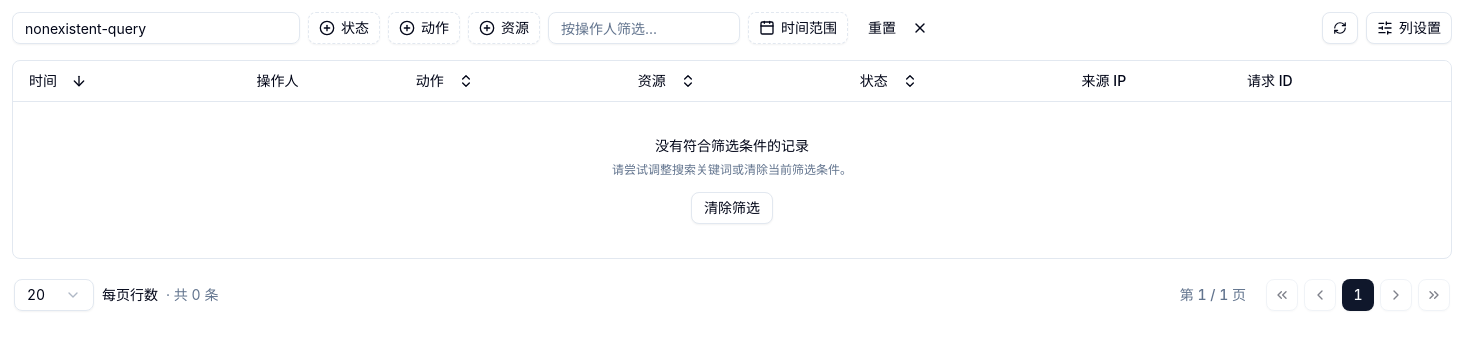
Test: audit-logs feature › distinguishes empty filtered state and resets filters on Clear filters
Expected: the text "没有符合筛选条件的记录" is shown, [655,136,809,156]
Click the button "清除筛选". click: (732, 208)
box: [691,192,773,224]
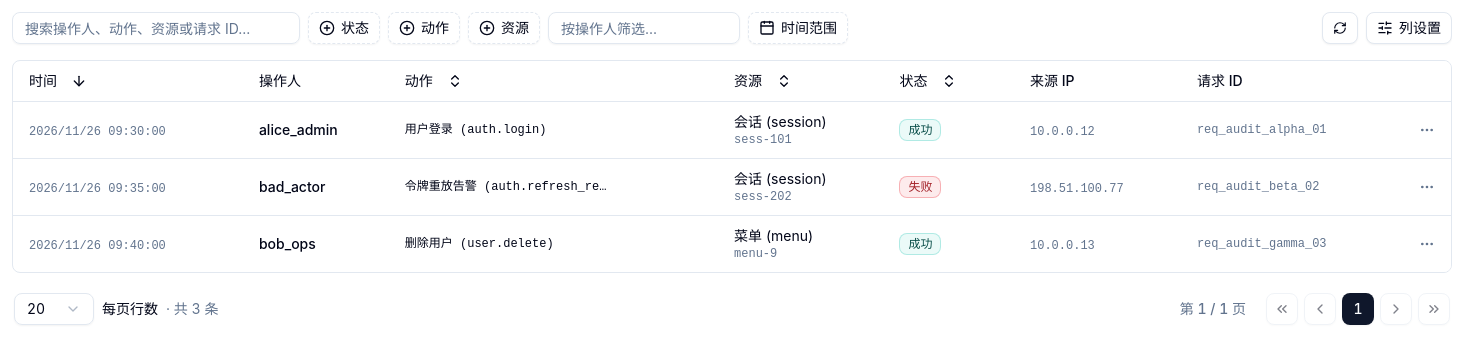
Expected: the text "alice_admin" is shown, [259,120,338,138]
